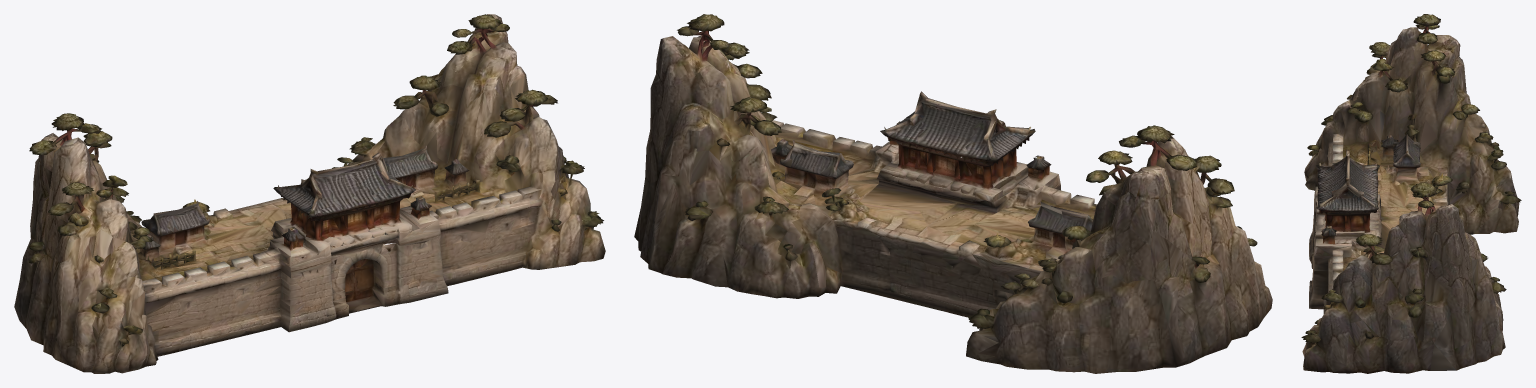
File: pass-korea.glb
3 renders of one model, left to right at view 1: azimuth 30°, elevation 25°; view 2: azimuth 150°, elevation 25°; view 3: azimuth 270°, elevation 25°, orthographic. The views are drawn at different scales.
Visible parts, largest first — view 1: tripo_node_5e75d621-4f0b-4d50-9050-57ff313fd963; view 2: tripo_node_5e75d621-4f0b-4d50-9050-57ff313fd963; view 3: tripo_node_5e75d621-4f0b-4d50-9050-57ff313fd963.
Part boxes in pixels (x1,y1,x2,y2): tripo_node_5e75d621-4f0b-4d50-9050-57ff313fd963: [14, 14, 605, 373]; tripo_node_5e75d621-4f0b-4d50-9050-57ff313fd963: [634, 14, 1272, 373]; tripo_node_5e75d621-4f0b-4d50-9050-57ff313fd963: [1301, 14, 1521, 373].
Bounding box in the file's own units: 0.85 × 0.3148 × 0.3706.
1 material, 1 textured.
